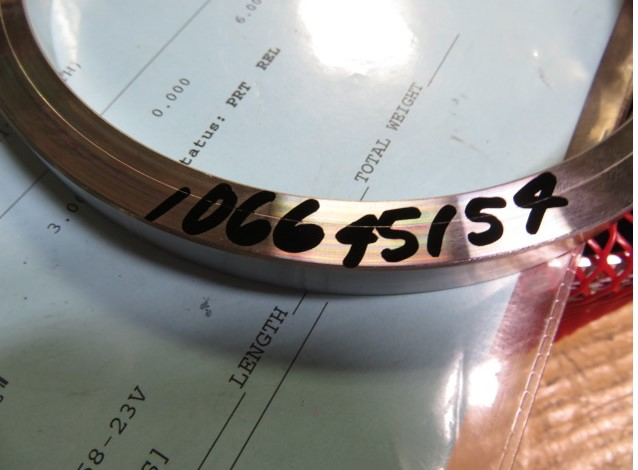character: (509, 170, 570, 236), (183, 174, 234, 239), (274, 195, 327, 256), (227, 184, 276, 248), (462, 195, 512, 250), (334, 211, 378, 272), (379, 206, 424, 261), (420, 203, 459, 258)
